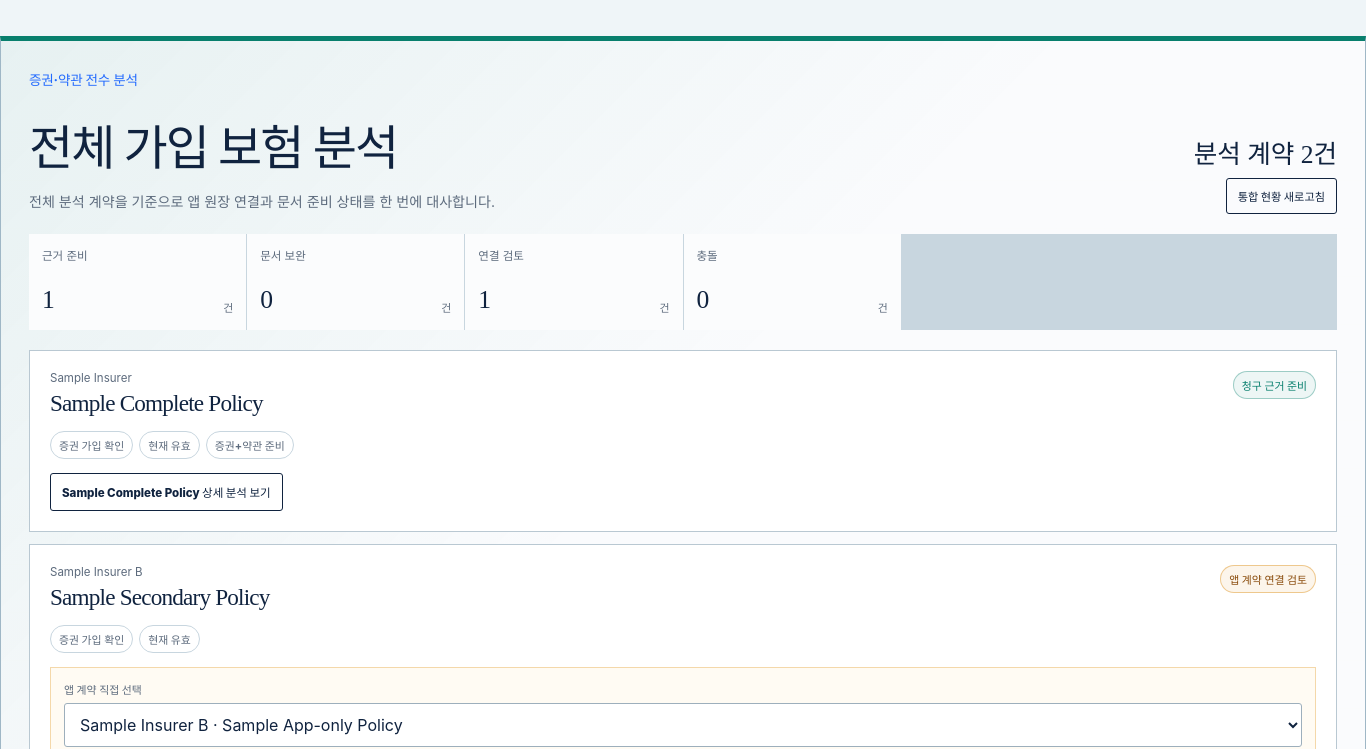
Scenario: shows the linked coverage and an amount difference without changing the source amount
What coordinates should you click on to do the following:
click the button "Sample Complete Policy 상세 분석 보기"
I would click on:
 (166, 492)
Its box is [50,474,283,512].
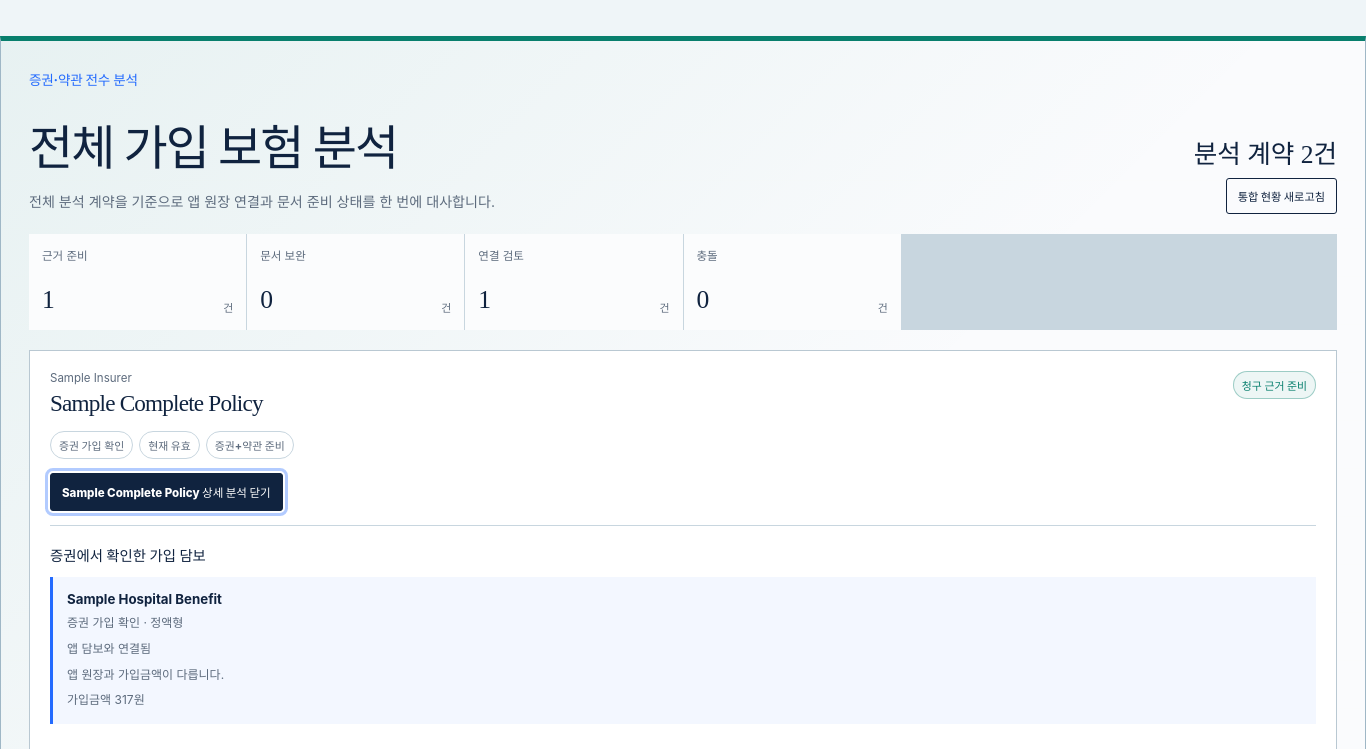
expect the text "앱 담보와 연결됨" is shown: met, box [67,641,151,656]
expect the text "앱 원장과 가입금액이 다릅니다." is shown: met, box [67,667,224,682]
expect the text "가입금액 317원" is shown: met, box [67,692,145,707]
